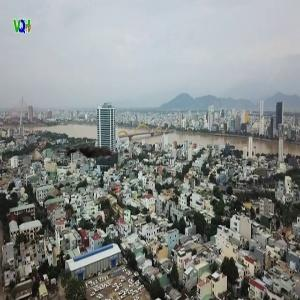drone: (52, 106, 145, 199)
